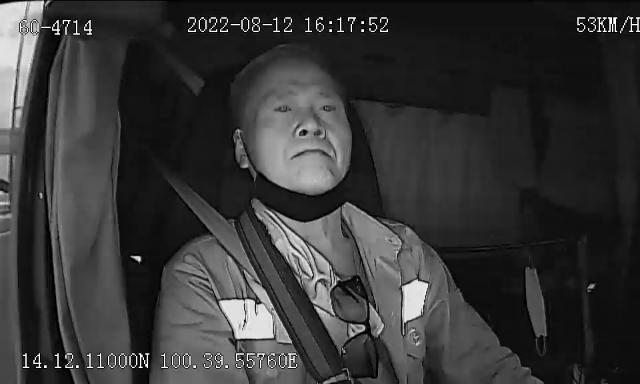SafeDriving: (266, 94, 300, 122), (312, 95, 344, 121)
Seatbelt: (162, 170, 354, 384)
